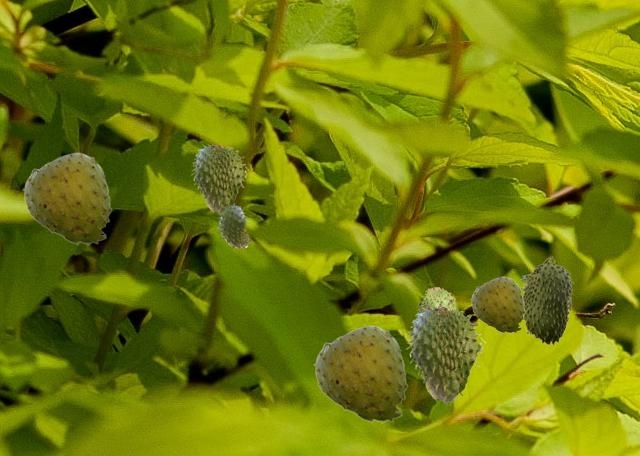guyabano: (313, 325, 407, 423), (22, 152, 111, 245), (406, 306, 485, 404), (520, 255, 573, 344), (191, 144, 248, 213), (470, 276, 524, 333), (217, 203, 250, 251), (417, 287, 455, 312)
